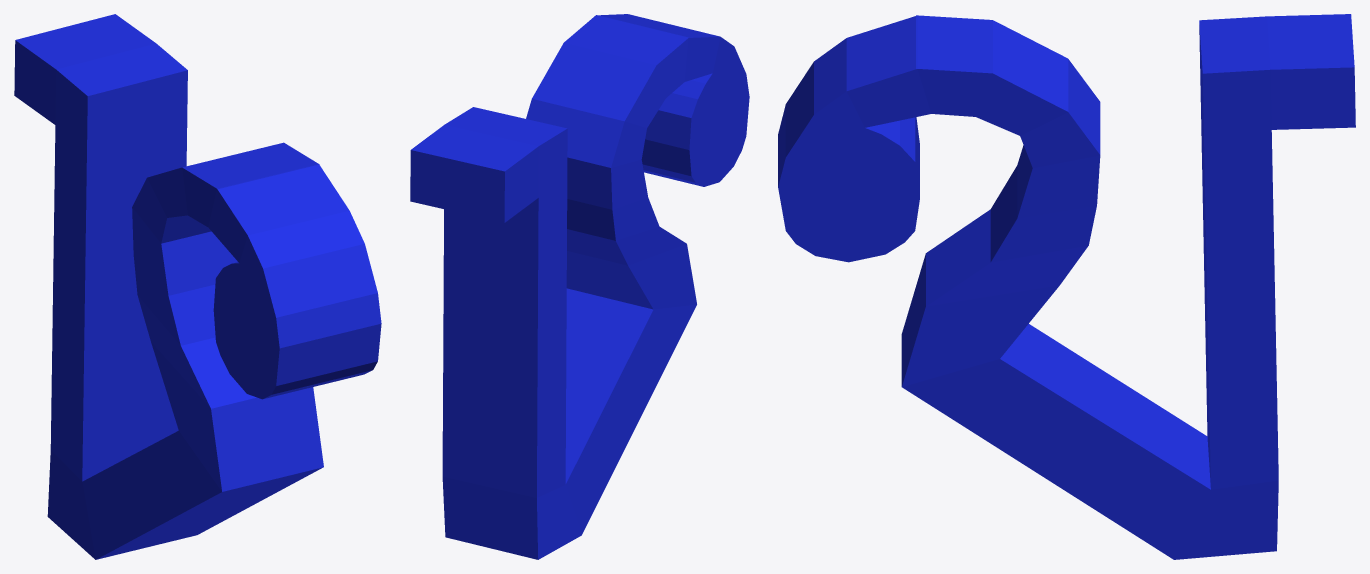
3 views of the same model, side by side, from view 1: azimuth 30°, elevation 25°; view 2: azimuth 150°, elevation 25°; view 3: azimuth 270°, elevation 25° (orthographic). The views are drawn at different scales.
Parts seen in each view (by area): view 1: Cube; view 2: Cube; view 3: Cube.
Boxes of the visible parts, <box> form: Cube: <box>14,14,381,559</box>; Cube: <box>410,14,749,559</box>; Cube: <box>778,14,1355,559</box>.
Bounding box in the file's own units: 208 × 862 × 914.
